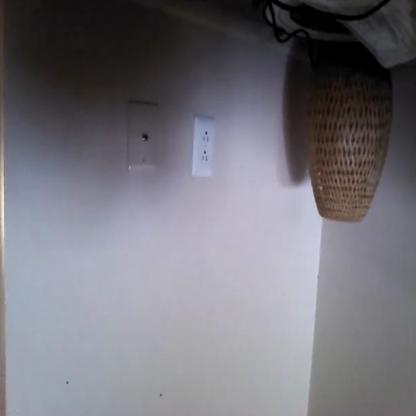OUTLET: (192, 118, 214, 175)
